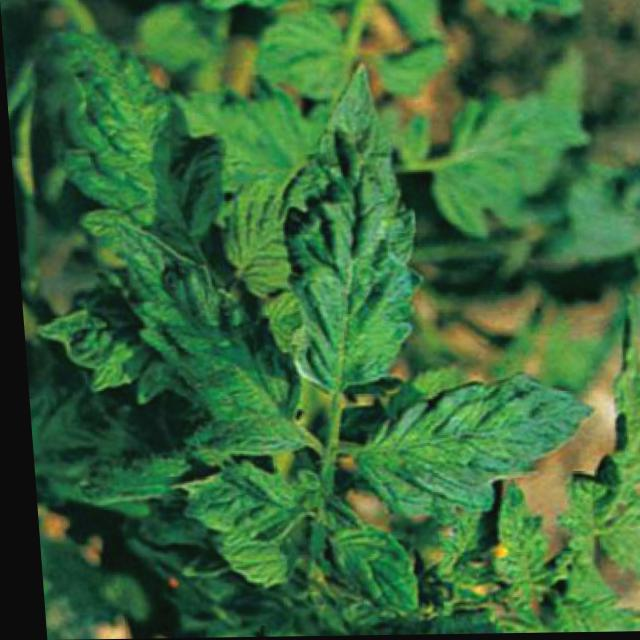Tomato yellow virus leaf: (255, 74, 422, 388), (112, 225, 308, 462), (40, 32, 224, 256), (345, 370, 579, 516), (161, 464, 320, 530), (308, 513, 408, 612)
